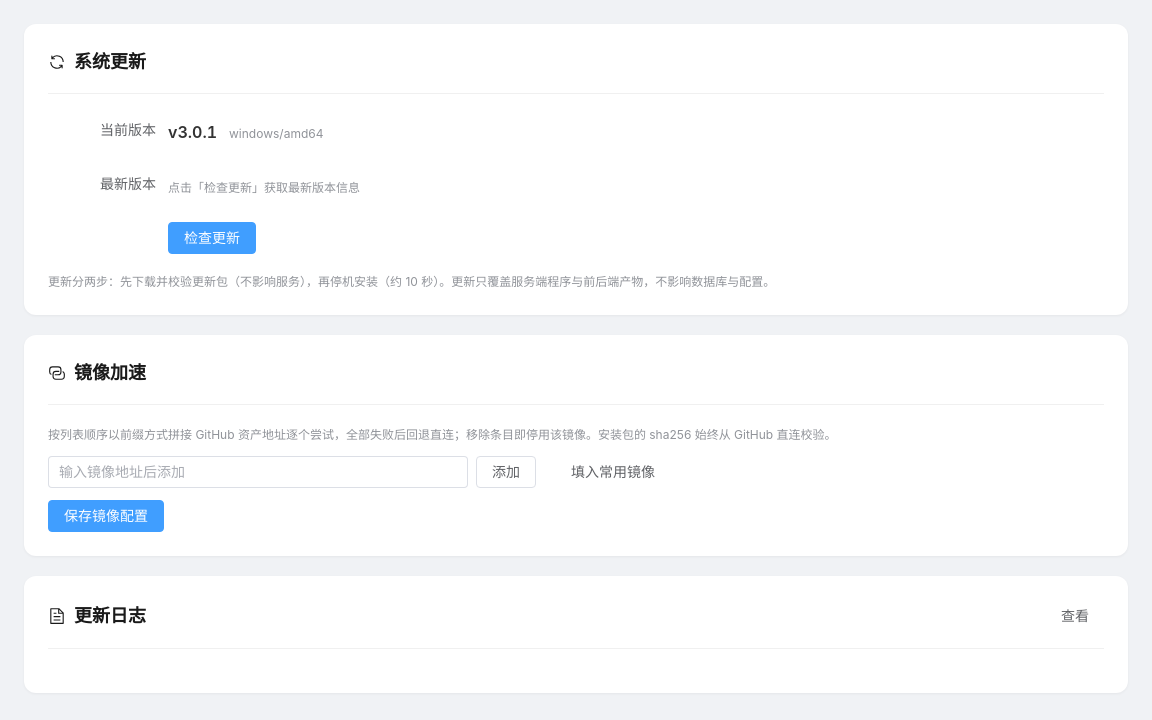
UpdateManage 版本与检查更新 › 检查更新：存在同大版本新版本时展示可热更新标签与体积
Click the button "检查更新" at (212, 238), box [168,222,256,254]
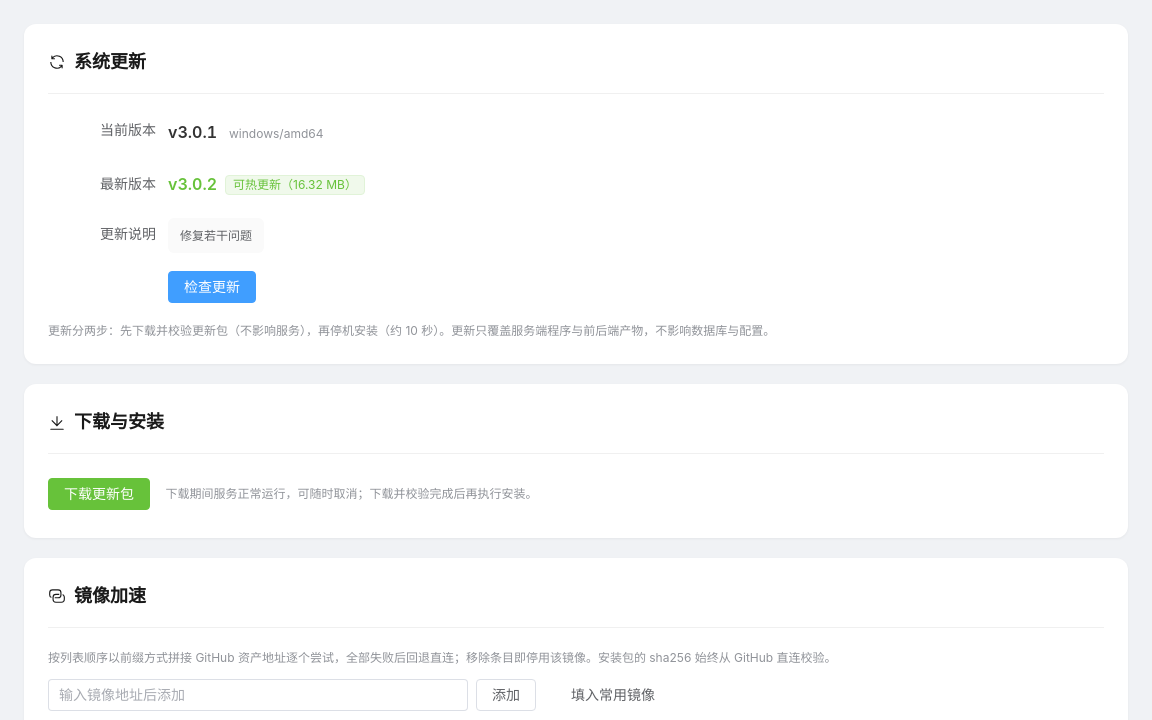
Expected: the text "修复若干问题" is shown, [168,218,264,253]
Expected: the button "下载更新包" is shown, [48,478,150,510]
